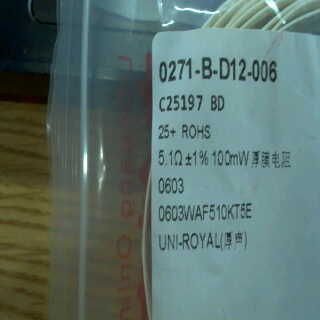5.1R: (155, 147, 188, 170)
